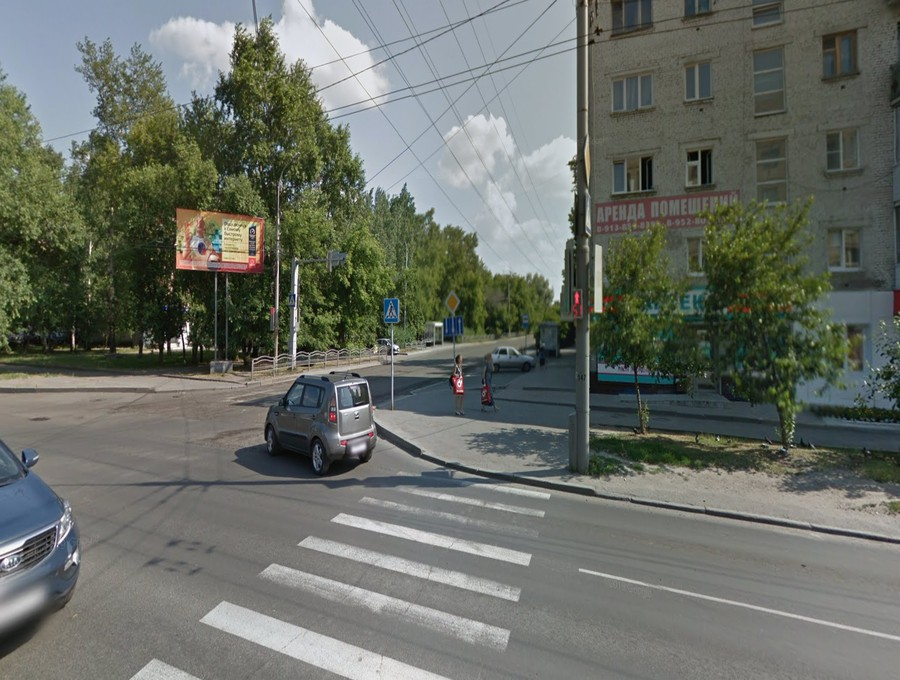Traffic Light-red: (570, 288, 585, 322)
